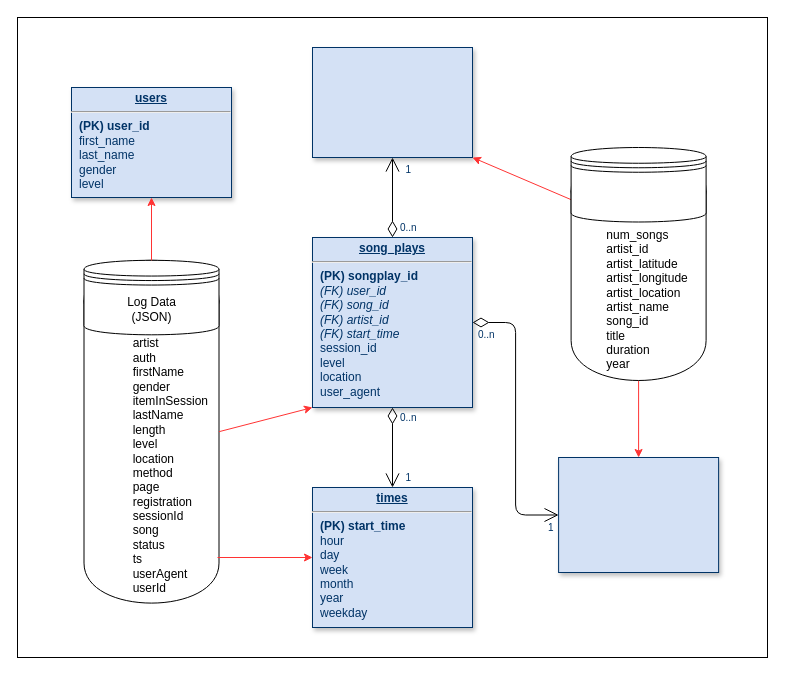
This 785x675 diagram has some shape labels left out. Here are the shapes that lost their labels. From the top down, the centre of each, then its label:
the point at 393,103: songs (PK) song_id (FK) artist_id title year duration
the point at 638,184: Song Data (JSON)
the point at 639,516: artists (PK) artist_id name location latitude longitude
